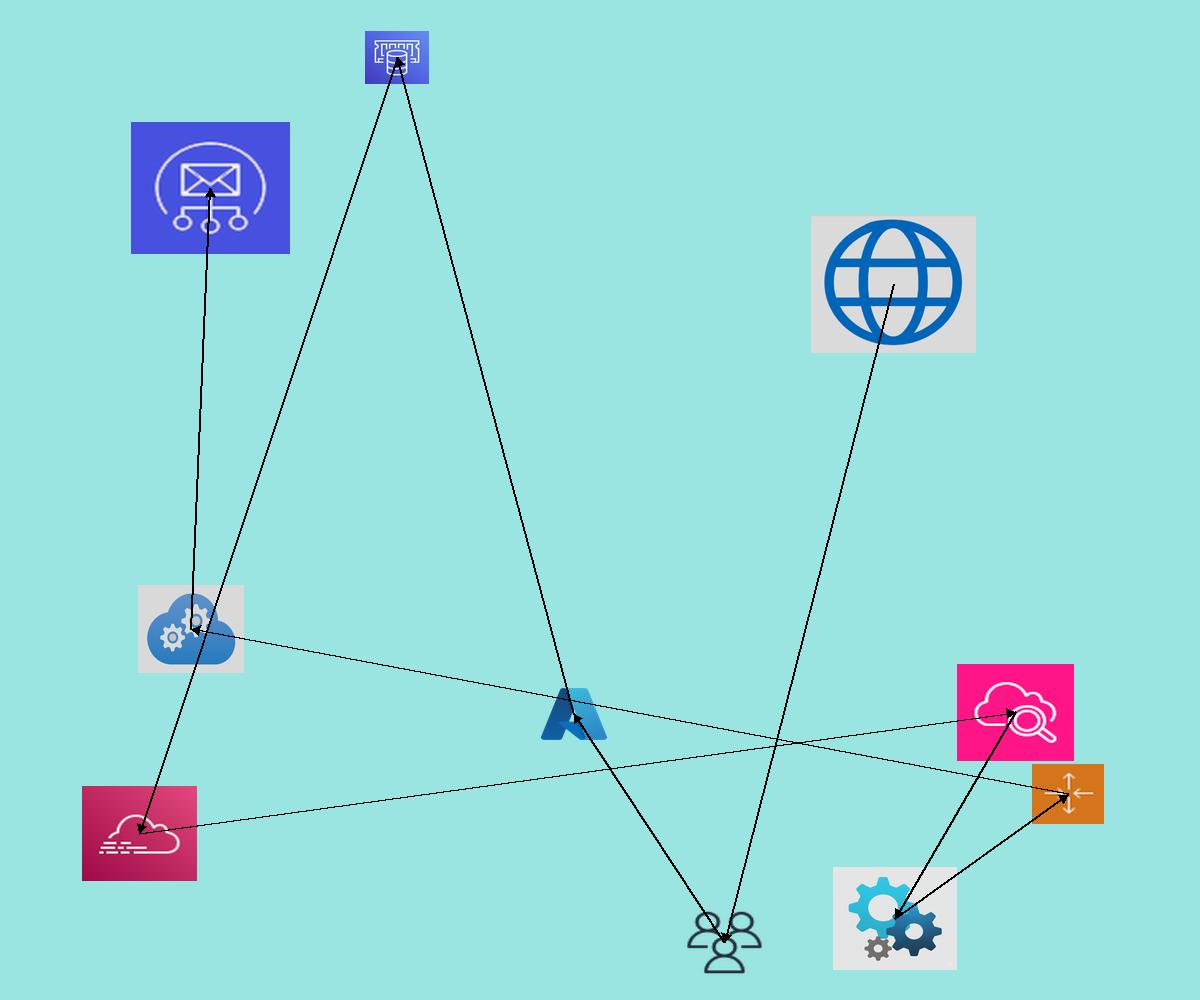AWS-CloudTrail: (82, 786, 197, 881)
AWS-CloudWatch: (957, 664, 1074, 761)
AWS-ElastiCache: (365, 31, 429, 84)
AWS-Res_Users: (684, 909, 765, 976)
AWS-Scaling-group: (1032, 764, 1104, 824)
AWS-Simple-Email-Service: (131, 122, 290, 254)
Azure_api: (833, 867, 957, 970)
Azure_cloud_services: (138, 585, 244, 673)
Azure_http: (811, 215, 976, 353)
Azure_services: (538, 684, 610, 744)
